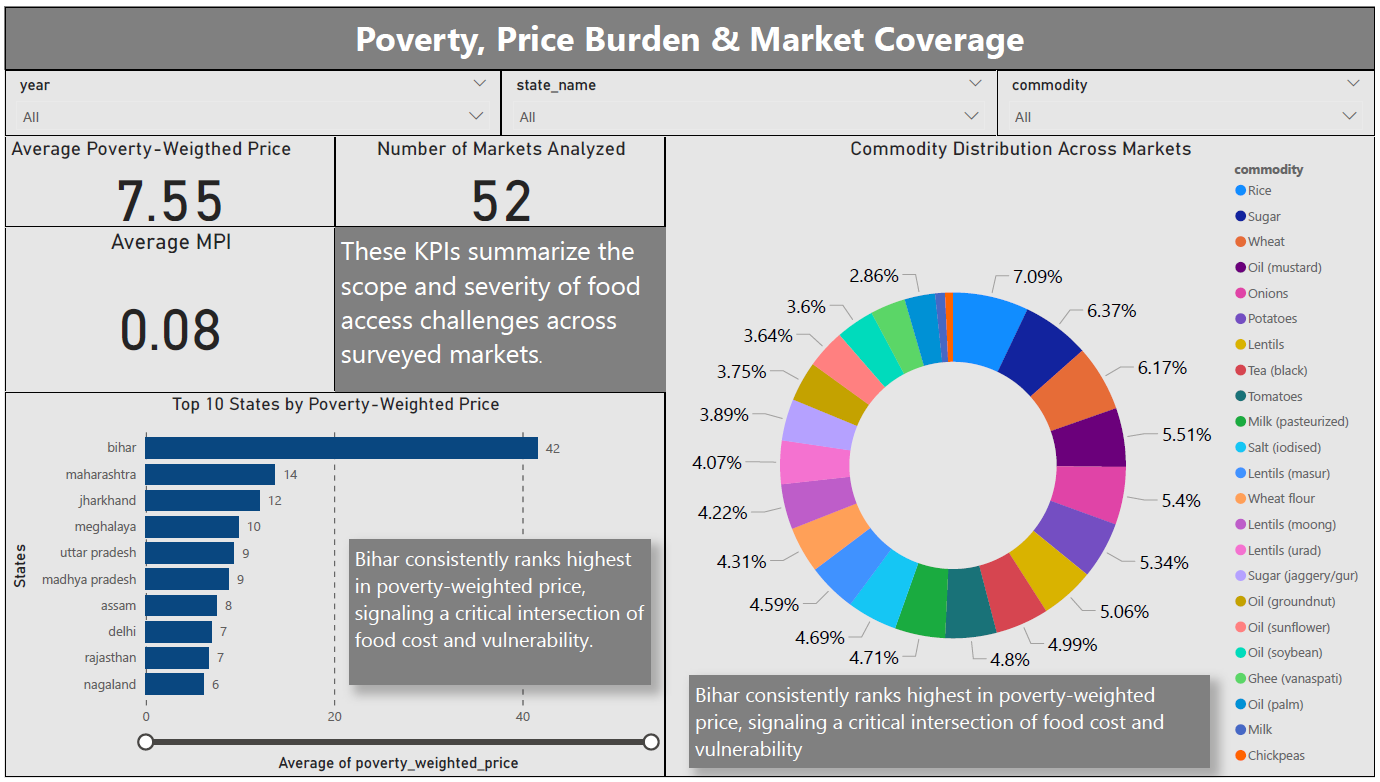

Layout of this report page (visuals, bound fields, positions):
{"tool":"powerbi","page":{"name":"Overview","canvas":[1280,720],"ordinal":0},"visuals":[{"type":"card","title":"Average MPI","fields":{"Values":["Avg(df_matched.multidimensional_poverty_index)"]},"box":[0,205.7,308.6,154.3],"z":0},{"type":"card","title":"Average Poverty-Weigthed Price","fields":{"Values":["Avg(df_matched.poverty_weighted_price)"]},"box":[0,121.4,308.6,84.3],"z":1000},{"type":"card","title":"Number of Markets Analyzed","fields":{"Values":["Count(df_matched.market)"]},"box":[308.6,121.4,308.6,84.3],"z":2000},{"type":"clusteredBarChart","title":"Top 10 States by Poverty-Weighted Price","fields":{"Category":["df_matched.state_name"],"Y":["Avg(df_matched.poverty_weighted_price)"]},"box":[0,360,617.1,360],"z":3000},{"type":"actionButton","box":[0,0,100,40],"z":4000},{"type":"donutChart","title":"Commodity Distribution Across Markets","fields":{"Category":["df_matched.commodity"],"Y":["CountNonNull(df_matched.commodity)"]},"box":[617.1,121.4,662.9,598.6],"z":5000},{"type":"slicer","fields":{"Values":["df_matched.year"]},"box":[0,58.6,464.3,62.9],"z":6000},{"type":"slicer","fields":{"Values":["df_matched.state_name"]},"box":[464.3,58.6,462.9,62.9],"z":7000},{"type":"slicer","fields":{"Values":["df_matched.commodity"]},"box":[927.1,58.6,352.9,62.9],"z":8000},{"type":"textbox","box":[308.6,205.7,308.6,154.3],"z":9000},{"type":"textbox","box":[0,0,1280,58.6],"z":10000},{"type":"textbox","box":[321.7,498.3,281.7,135],"z":11000},{"type":"textbox","box":[640,625,486.2,86.2],"z":12000}]}

Visuals, with their boxes in screenshot pixels (x1, y1, x2, y2), scaled from the page's 1280x720 canvas onto the 1380x782 screenshot:
"Average MPI" card: Rect(0, 223, 333, 391)
"Average Poverty-Weigthed Price" card: Rect(0, 132, 333, 223)
"Number of Markets Analyzed" card: Rect(333, 132, 665, 223)
"Top 10 States by Poverty-Weighted Price" clusteredBarChart: Rect(0, 391, 665, 781)
actionButton: Rect(0, 0, 108, 43)
"Commodity Distribution Across Markets" donutChart: Rect(665, 132, 1379, 781)
slicer - df_matched.year: Rect(0, 64, 501, 132)
slicer - df_matched.state_name: Rect(501, 64, 1000, 132)
slicer - df_matched.commodity: Rect(1000, 64, 1379, 132)
textbox: Rect(333, 223, 665, 391)
textbox: Rect(0, 0, 1379, 64)
textbox: Rect(347, 541, 651, 688)
textbox: Rect(690, 679, 1214, 772)
